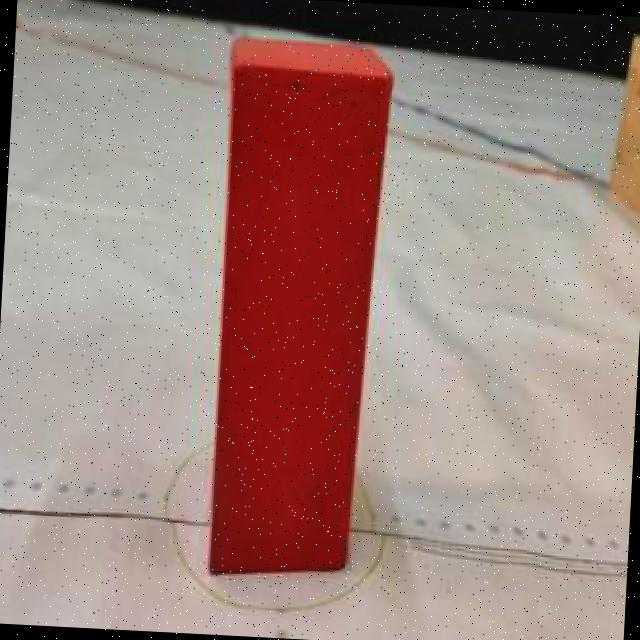redbox: (202, 35, 396, 583)
